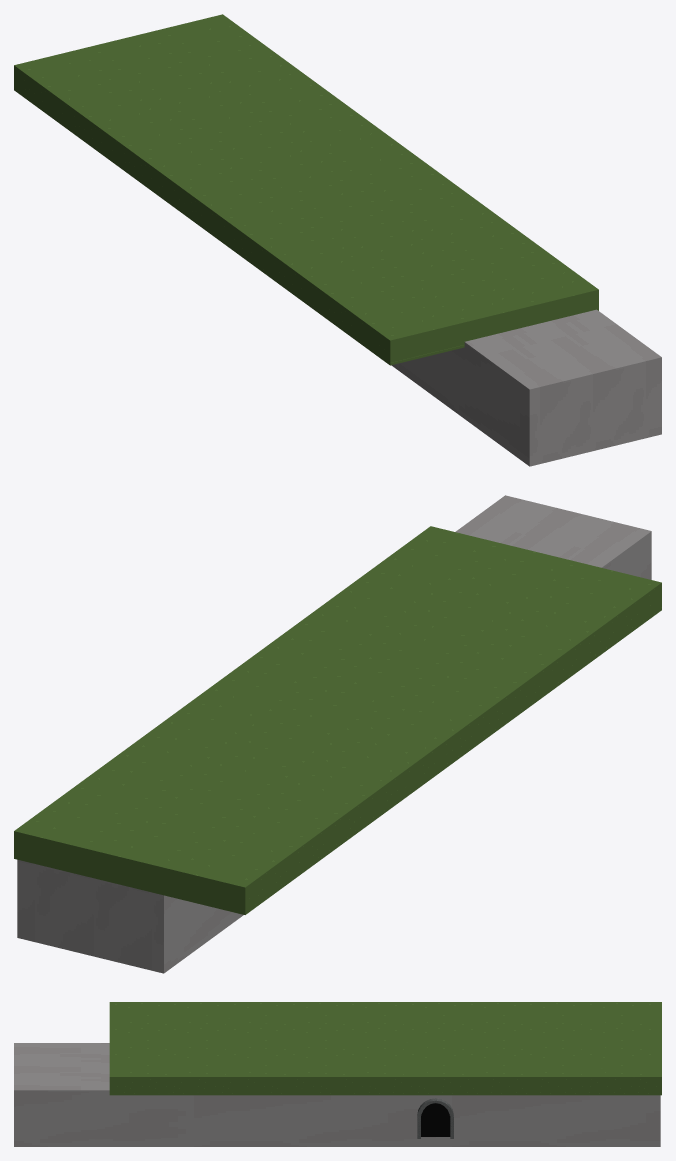
The model's file is BackForestCutoffPlane.fbx.
3 renders of one model, top to bottom at view 1: azimuth 30°, elevation 25°; view 2: azimuth 150°, elevation 25°; view 3: azimuth 270°, elevation 25°, orthographic. The views are drawn at different scales.
Visible parts, largest first — view 1: GrassArchUpper, ForestCutoffPlane; view 2: GrassArchUpper, ForestCutoffPlane; view 3: GrassArchUpper, ForestCutoffPlane, TunnelBlack, Arch1.
Boxes of the visible parts, x1,y1,x2,y2 form: GrassArchUpper: [14, 14, 598, 365]; ForestCutoffPlane: [391, 309, 661, 466]; GrassArchUpper: [14, 526, 661, 914]; ForestCutoffPlane: [17, 495, 651, 973]; GrassArchUpper: [109, 1002, 661, 1095]; ForestCutoffPlane: [14, 1043, 660, 1146]; TunnelBlack: [421, 1103, 450, 1136]; Arch1: [417, 1098, 453, 1126].
Size of the model in its own units: 33295 by 14420 by 119534.
Materials: 4 (3 with a texture image).
